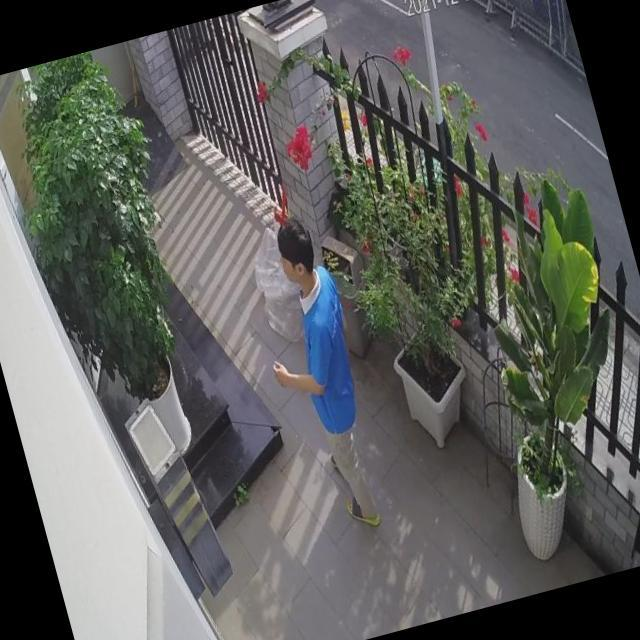person: (237, 212, 400, 541)
